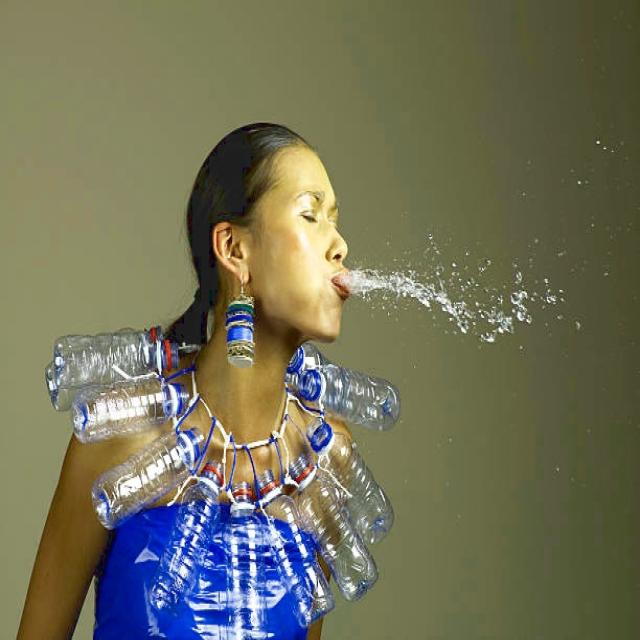Spitting: (183, 112, 417, 411)
